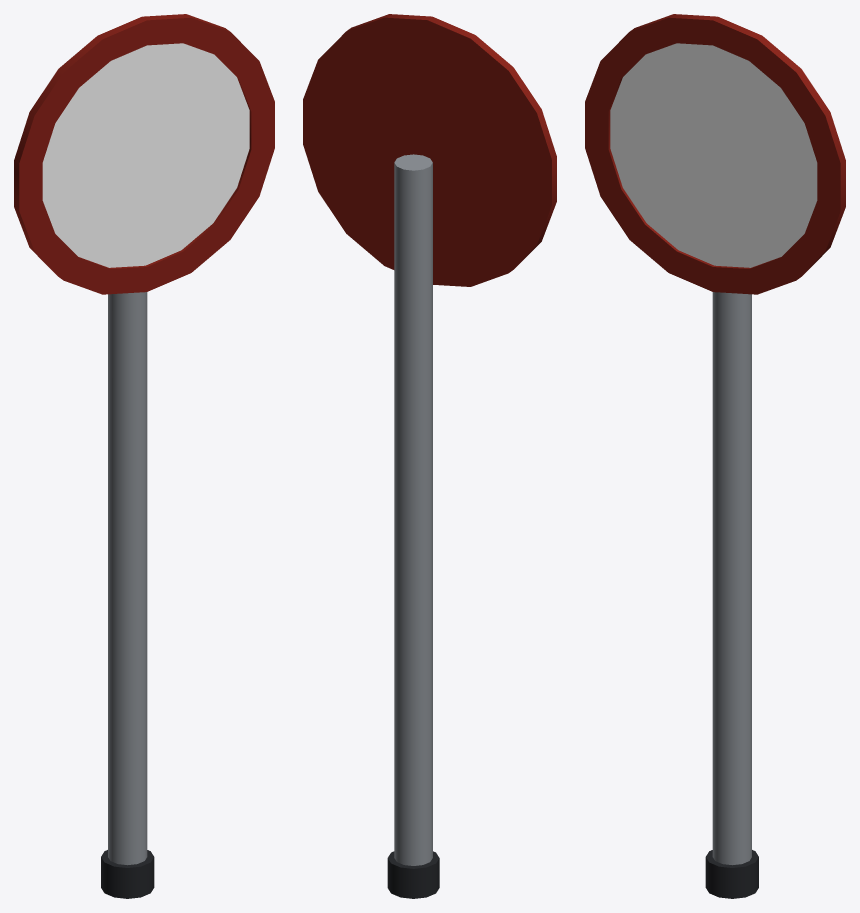
File: TrafficSign_1.fbx
3 views of the same model, side by side, from view 1: azimuth 30°, elevation 25°; view 2: azimuth 150°, elevation 25°; view 3: azimuth 330°, elevation 25° (orthographic). The views are drawn at different scales.
Visible parts, largest first — view 1: TrafficSign_1; view 2: TrafficSign_1; view 3: TrafficSign_1.
Part boxes in pixels (box(x1,y1,x2,y2)): TrafficSign_1: box(14, 14, 274, 898); TrafficSign_1: box(303, 14, 556, 898); TrafficSign_1: box(585, 14, 845, 898).
Size of the model in its own units: 63.99 by 211 by 14.19.
